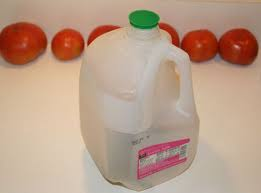milk: (78, 10, 198, 183)
